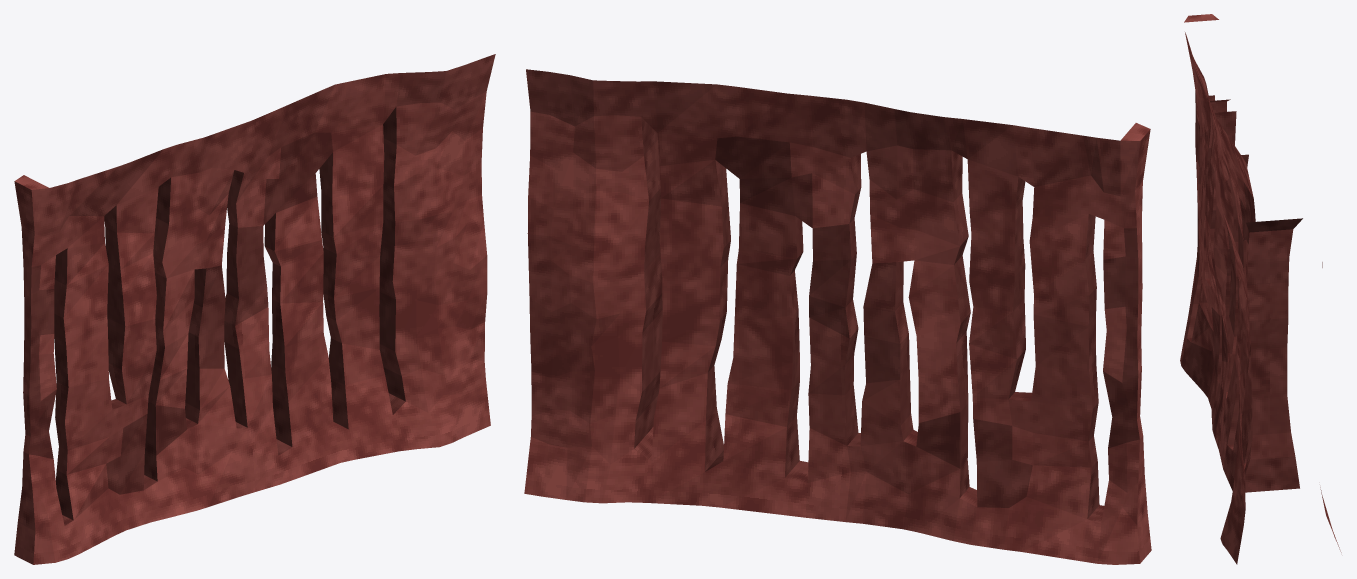
The model's file is map_base_gate.glb.
The picture shows the model from 3 angles, left to right: view 1: azimuth 30°, elevation 25°; view 2: azimuth 150°, elevation 25°; view 3: azimuth 270°, elevation 25°; orthographic projection. The views are drawn at different scales.
Parts seen in each view (by area): view 1: MapBaseGateRock; view 2: MapBaseGateRock; view 3: MapBaseGateRock.
Boxes of the visible parts, left/top/right/bottom form: MapBaseGateRock: left=14, top=54, right=495, bottom=564; MapBaseGateRock: left=524, top=69, right=1151, bottom=564; MapBaseGateRock: left=1180, top=14, right=1341, bottom=564.
Size of the model in its own units: 12.03 by 8.75 by 3.84.
2 materials, 2 textured.
